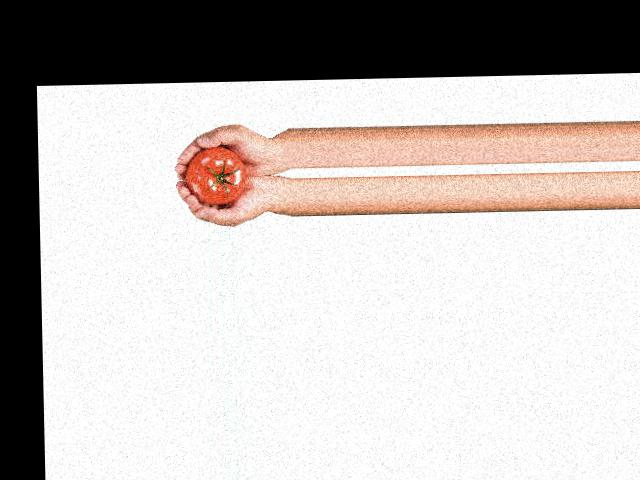tomato: (185, 145, 246, 204)
